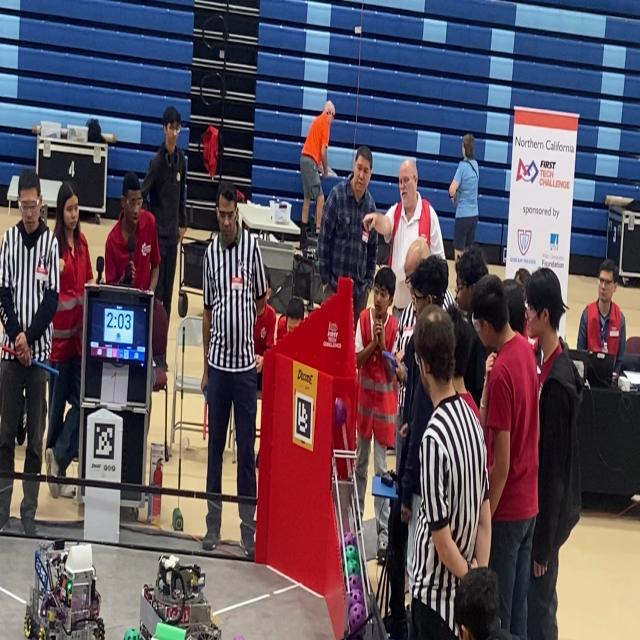artifact_green: (345, 546, 359, 560), (347, 560, 360, 575), (124, 629, 140, 639), (341, 562, 348, 582)
artifact_purple: (349, 604, 366, 633), (334, 398, 347, 427), (348, 575, 363, 592), (350, 590, 364, 608), (344, 531, 357, 548), (234, 636, 244, 639)
